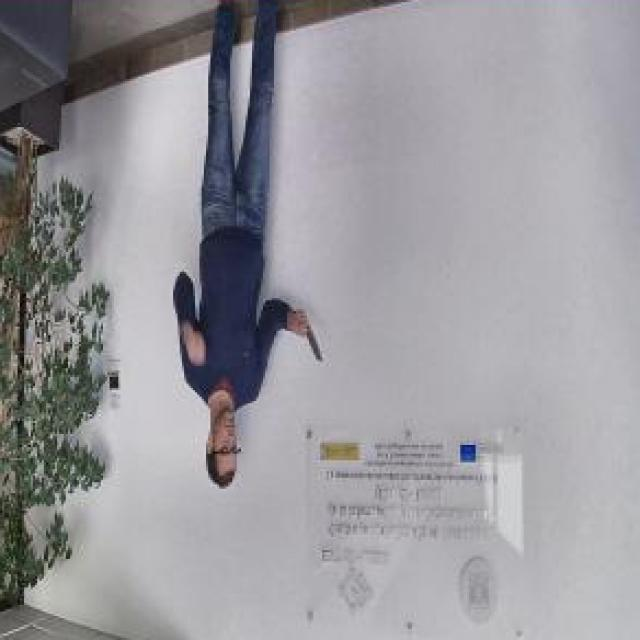knife: (296, 308, 325, 366)
